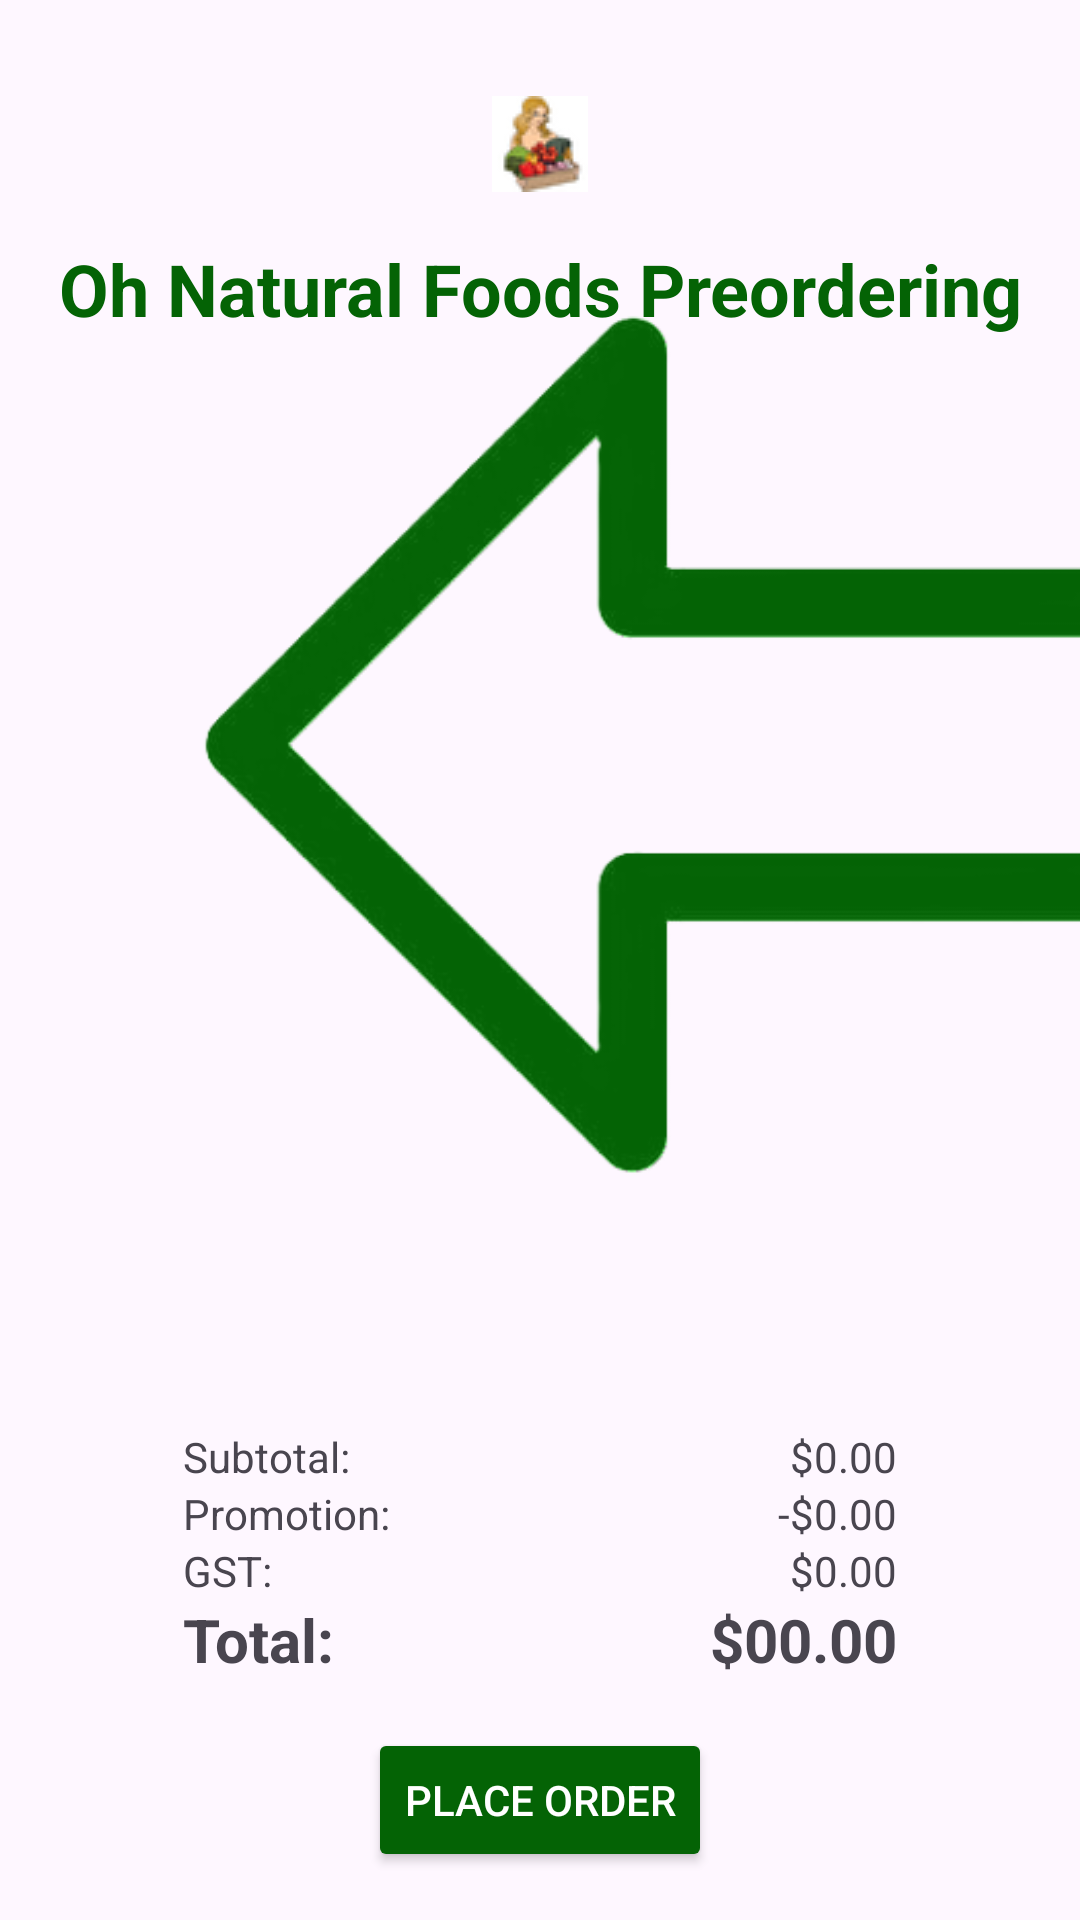

Named icons in this screenshot (1080px×1920px) and their bounding boxes, (x1, y1, x2, y2):
ohnaturalfoodsicon: (503, 96, 581, 192)
